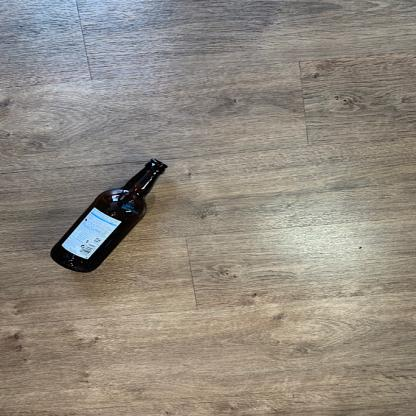trash: (50, 158, 166, 274)
